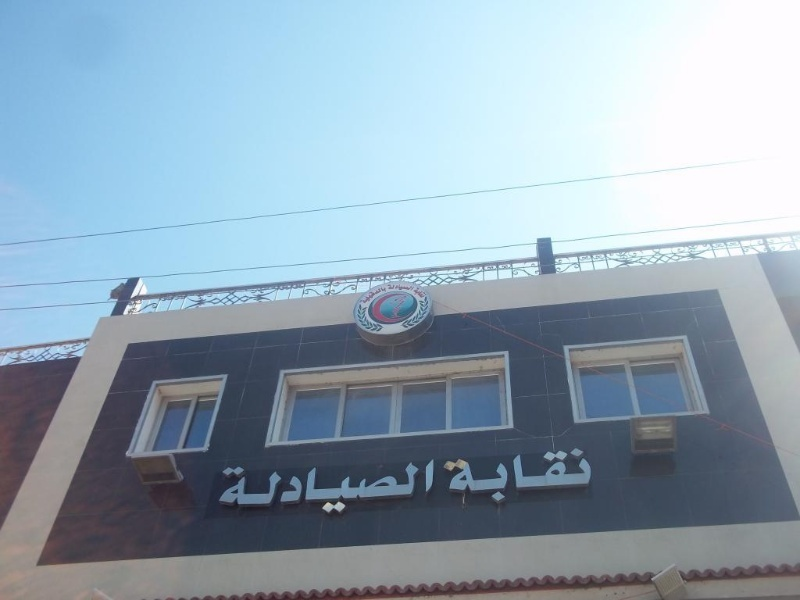text: (225, 458, 240, 520), (241, 458, 256, 520), (257, 458, 272, 520), (273, 458, 288, 520), (289, 458, 304, 520), (305, 458, 320, 520), (321, 458, 336, 520), (337, 458, 352, 520), (353, 458, 368, 520), (369, 458, 384, 520), (385, 458, 400, 520), (401, 458, 416, 520), (417, 458, 432, 520), (449, 446, 464, 506), (465, 446, 480, 506), (481, 446, 496, 506), (497, 446, 512, 506), (513, 446, 528, 506), (529, 446, 544, 506), (545, 446, 560, 506), (561, 446, 576, 506), (577, 446, 592, 506), (215, 458, 224, 520), (433, 458, 440, 520), (369, 283, 384, 308), (443, 446, 448, 506), (356, 283, 368, 308), (593, 446, 597, 506), (417, 285, 429, 301), (401, 281, 417, 293), (387, 281, 400, 293), (385, 283, 389, 308), (411, 285, 416, 301)
